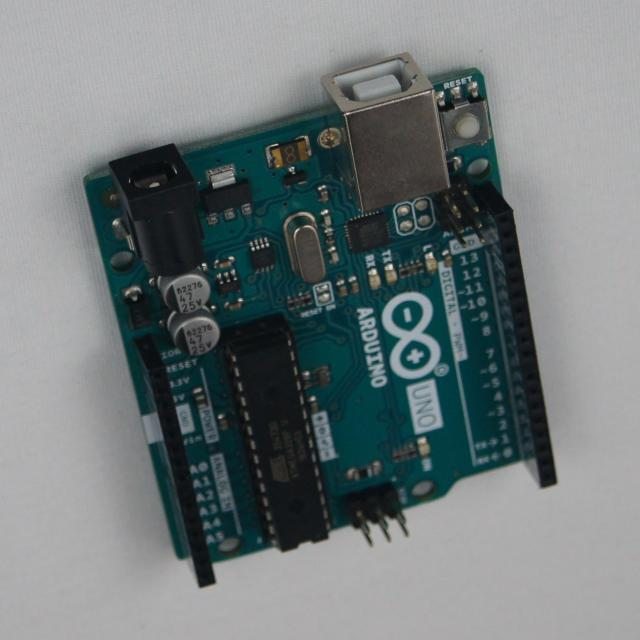Arduino Uno -Green-: (86, 54, 557, 587)
